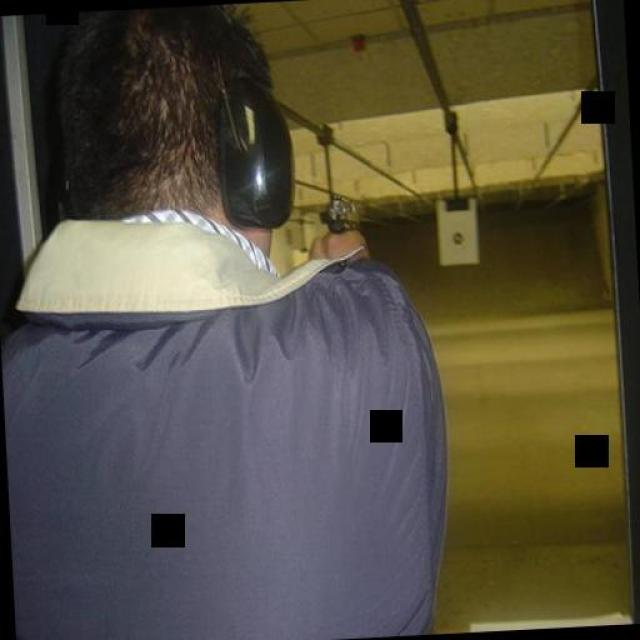gun: (316, 194, 350, 230)
